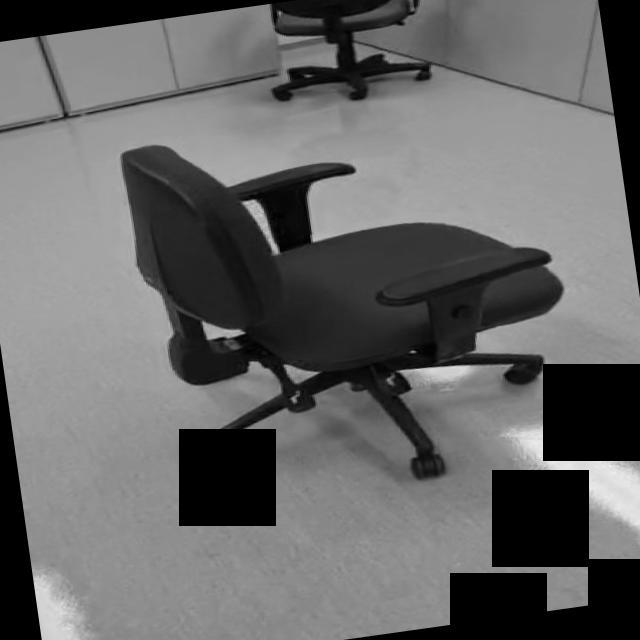chair: (119, 91, 586, 515)
